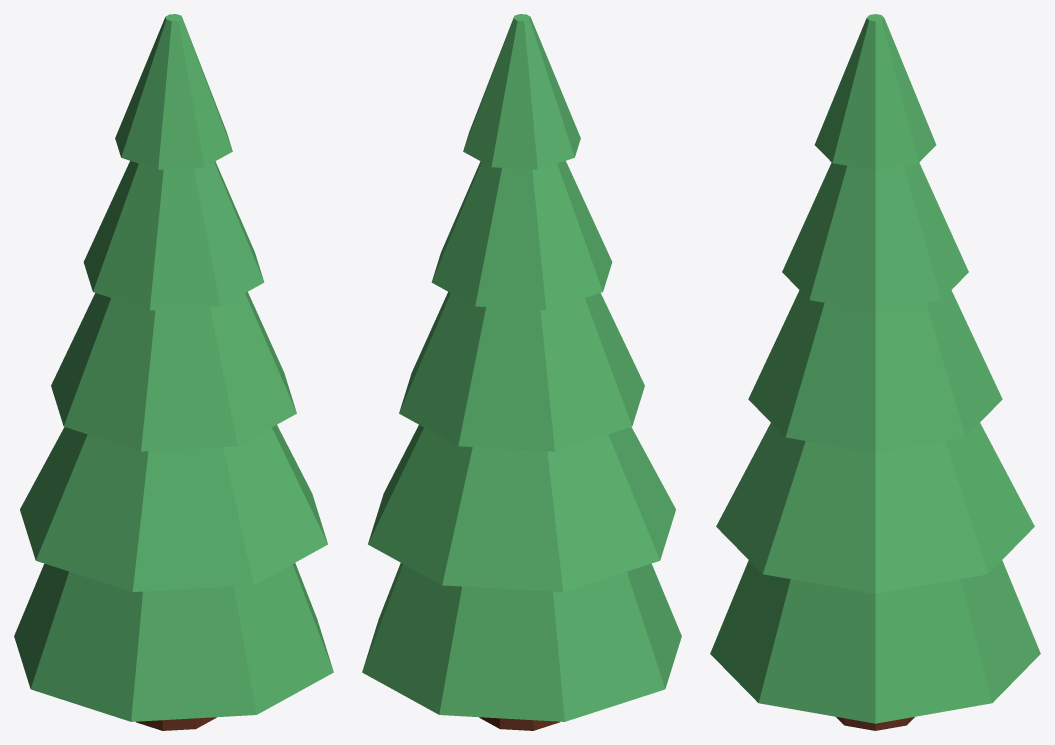
The model's file is PineTree_A.fbx.
3 views of the same model, side by side, from view 1: azimuth 30°, elevation 25°; view 2: azimuth 150°, elevation 25°; view 3: azimuth 270°, elevation 25° (orthographic).
Parts seen in each view (by area): view 1: PineTree_A; view 2: PineTree_A; view 3: PineTree_A.
Boxes of the visible parts, x1,y1,x2,y2 form: PineTree_A: [14, 14, 333, 730]; PineTree_A: [362, 14, 681, 730]; PineTree_A: [710, 14, 1040, 730].
Size of the model in its own units: 130 by 300 by 130.
